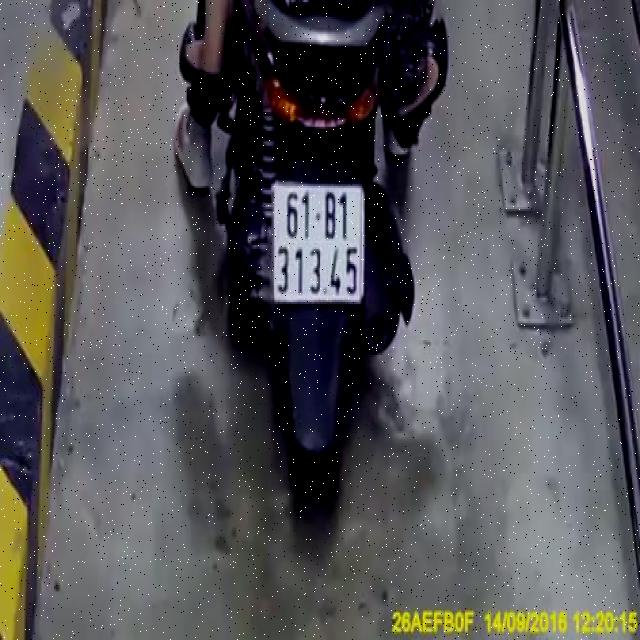1: (293, 246, 305, 296), (301, 187, 311, 241), (338, 190, 348, 240)
3: (275, 243, 290, 297), (308, 245, 321, 294)
4: (329, 245, 342, 295)
5: (345, 243, 359, 296)
6: (286, 191, 300, 241)
B: (324, 190, 336, 242)
